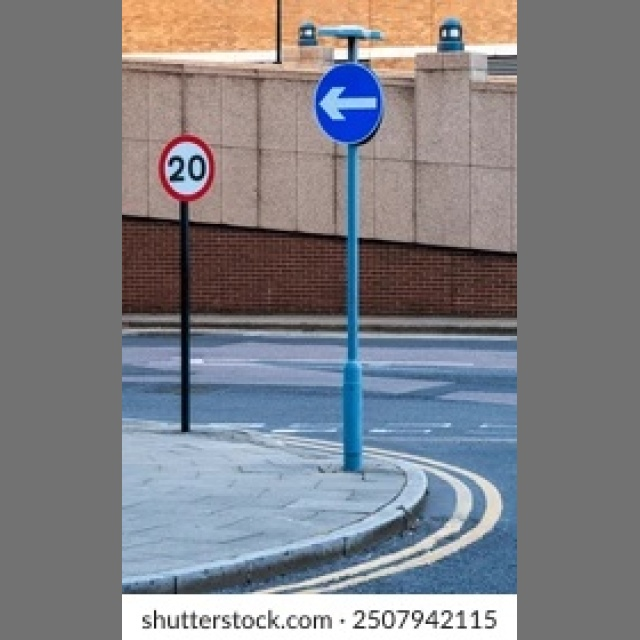Pass_Either_Side: (228, 164, 487, 421)
